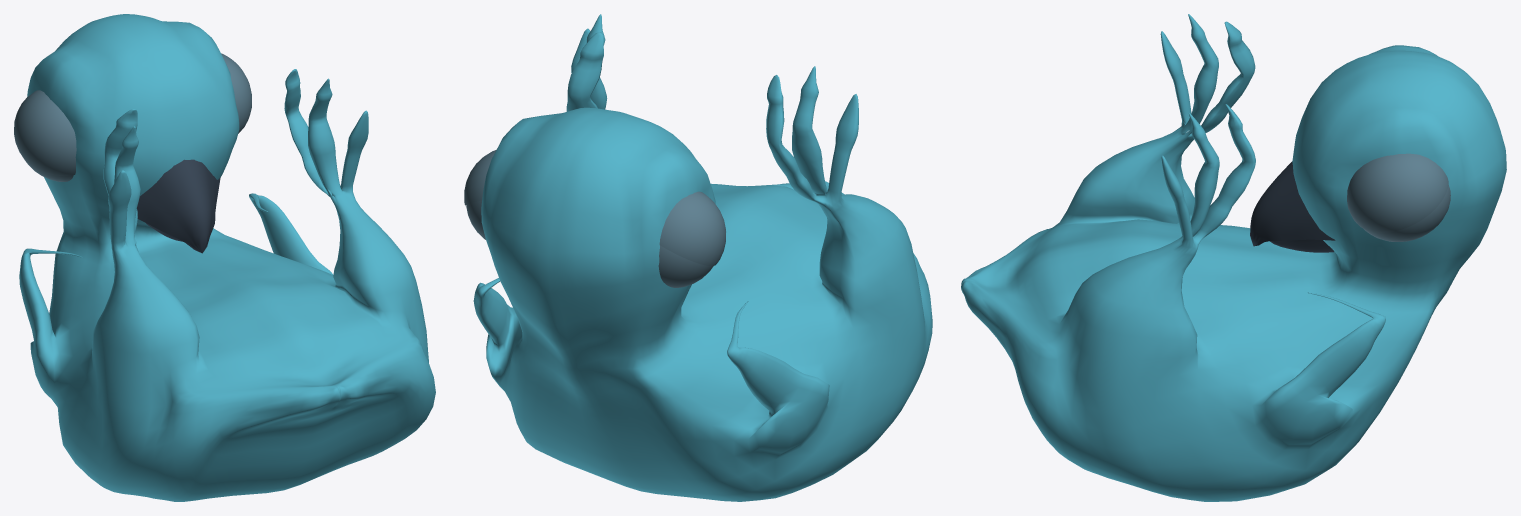
The model's file is passaro.gltf.
The picture shows the model from 3 angles, left to right: view 1: azimuth 30°, elevation 25°; view 2: azimuth 150°, elevation 25°; view 3: azimuth 270°, elevation 25°; orthographic projection. The views are drawn at different scales.
Parts seen in each view (by area): view 1: corpo, bico_cima, olho_cima001, olho_cima; view 2: corpo, olho_cima001, olho_baixo001, olho_cima; view 3: corpo, olho_cima, bico_cima, olho_baixo, bico_baixo.
Part boxes in pixels (left/top/right/bottom): corpo: left=19, top=14, right=435, bottom=501; bico_cima: left=137, top=159, right=220, bottom=253; olho_cima001: left=14, top=90, right=76, bottom=176; olho_cima: left=221, top=53, right=251, bottom=133; corpo: left=473, top=14, right=932, bottom=501; olho_cima001: left=659, top=191, right=725, bottom=265; olho_baixo001: left=658, top=245, right=713, bottom=287; olho_cima: left=464, top=150, right=496, bottom=205; corpo: left=961, top=14, right=1506, bottom=501; olho_cima: left=1347, top=153, right=1448, bottom=232; bico_cima: left=1250, top=161, right=1335, bottom=246; olho_baixo: left=1364, top=185, right=1450, bottom=241; bico_baixo: left=1269, top=239, right=1334, bottom=252.
Size of the model in its own units: 3.08 by 3.6 by 4.43.
